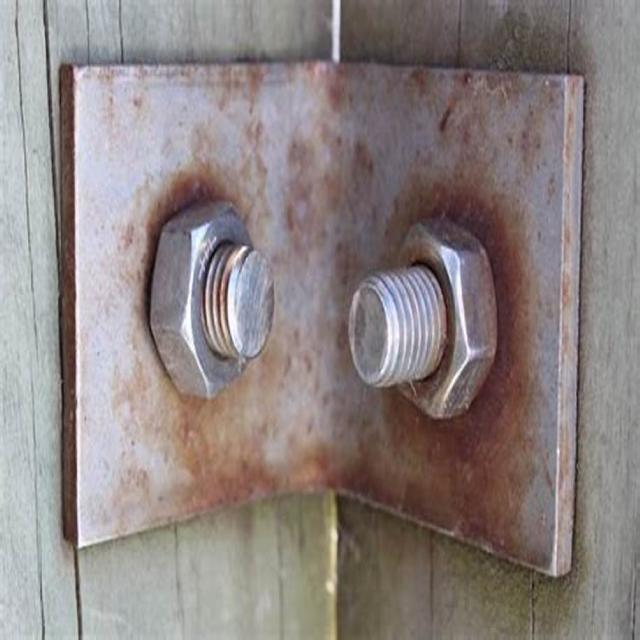bolt nut: (380, 209, 499, 425), (147, 201, 260, 397)
